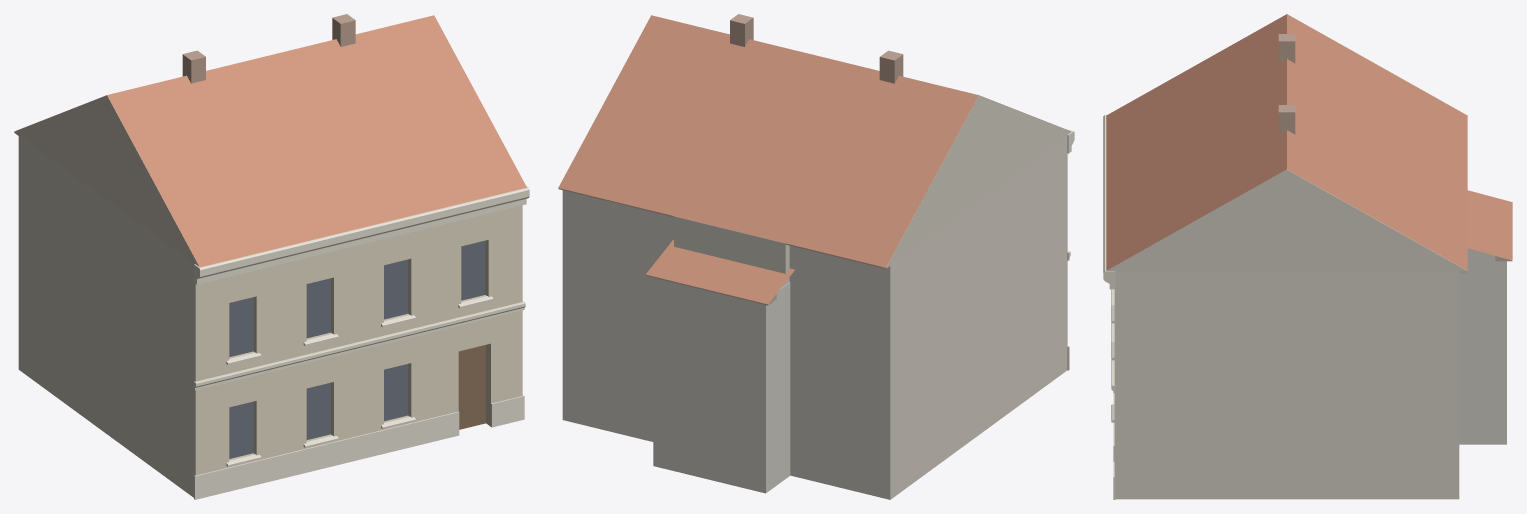
3 renders of one model, left to right at view 1: azimuth 30°, elevation 25°; view 2: azimuth 150°, elevation 25°; view 3: azimuth 270°, elevation 25°, orthographic. The views are drawn at different scales.
Parts seen in each view (by area): view 1: CP_1167_Masonry, CP_1167_Roof, CP_1167_Gable_L_gable, CP_1167_Cornice_plinth_0, CP_1167_Cornice_main_0, CP_1167_Cornice_string_0, CP_1167_Cornice_plinth_1, CP_1167_Chimney_0, CP_1167_Chimney_1; view 2: CP_1167_Masonry, CP_1167_Roof, CP_1167_Rear_Annex, CP_1167_Gable_L_gable, CP_1167_WingRoof_Rear_Annex, CP_1167_AtticClosure_1, CP_1167_Chimney_0, CP_1167_Chimney_1; view 3: CP_1167_Masonry, CP_1167_Roof, CP_1167_Gable_R_gable, CP_1167_Rear_Annex, CP_1167_WingRoof_Rear_Annex, CP_1167_Cornice_main_0, CP_1167_Chimney_0, CP_1167_Chimney_1.
Boxes of the visible parts, box(x1,y1,x2,y2) form: CP_1167_Masonry: box(18, 135, 522, 497); CP_1167_Roof: box(16, 15, 526, 267); CP_1167_Gable_L_gable: box(14, 95, 199, 266); CP_1167_Cornice_plinth_0: box(194, 411, 459, 499); CP_1167_Cornice_main_0: box(194, 186, 529, 284); CP_1167_Cornice_string_0: box(194, 301, 525, 390); CP_1167_Cornice_plinth_1: box(491, 395, 524, 427); CP_1167_Chimney_0: box(182, 50, 205, 83); CP_1167_Chimney_1: box(332, 14, 355, 46); CP_1167_Masonry: box(562, 136, 1067, 499); CP_1167_Roof: box(558, 15, 1070, 267); CP_1167_Rear_Annex: box(653, 277, 790, 493); CP_1167_Gable_L_gable: box(879, 95, 1071, 268); CP_1167_WingRoof_Rear_Annex: box(646, 240, 794, 304); CP_1167_AtticClosure_1: box(674, 216, 789, 288); CP_1167_Chimney_0: box(879, 50, 903, 83); CP_1167_Chimney_1: box(730, 14, 753, 46); CP_1167_Masonry: box(1114, 271, 1459, 499); CP_1167_Roof: box(1106, 14, 1467, 270); CP_1167_Gable_R_gable: box(1107, 169, 1467, 271); CP_1167_Rear_Annex: box(1459, 256, 1506, 444); CP_1167_WingRoof_Rear_Annex: box(1467, 190, 1512, 259); CP_1167_Cornice_main_0: box(1103, 115, 1115, 289); CP_1167_Chimney_0: box(1278, 34, 1295, 63); CP_1167_Chimney_1: box(1278, 105, 1295, 134).
Size of the model in its own units: 13.22 by 13.7 by 14.6.
